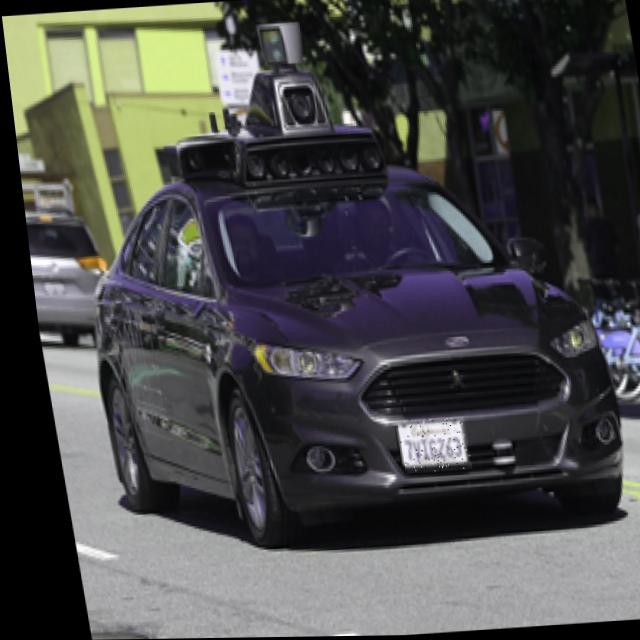license_plate: (386, 418, 461, 474)
